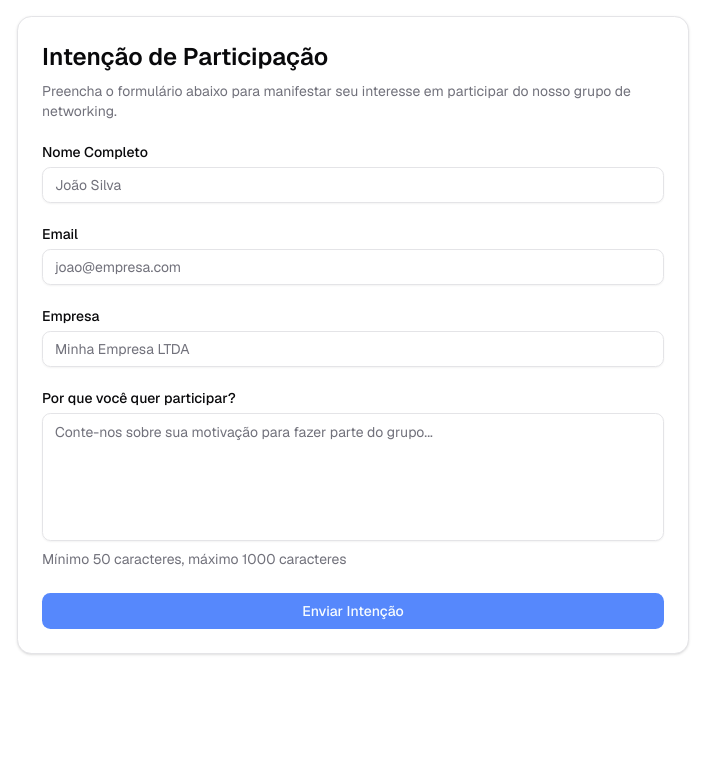
Test: ApplyPage › deve mostrar erro de validação para nome curto
Type "Jo" into the field labelled "Nome Completo".
click(353, 185); type("Jo")  # box [42, 167, 664, 203]
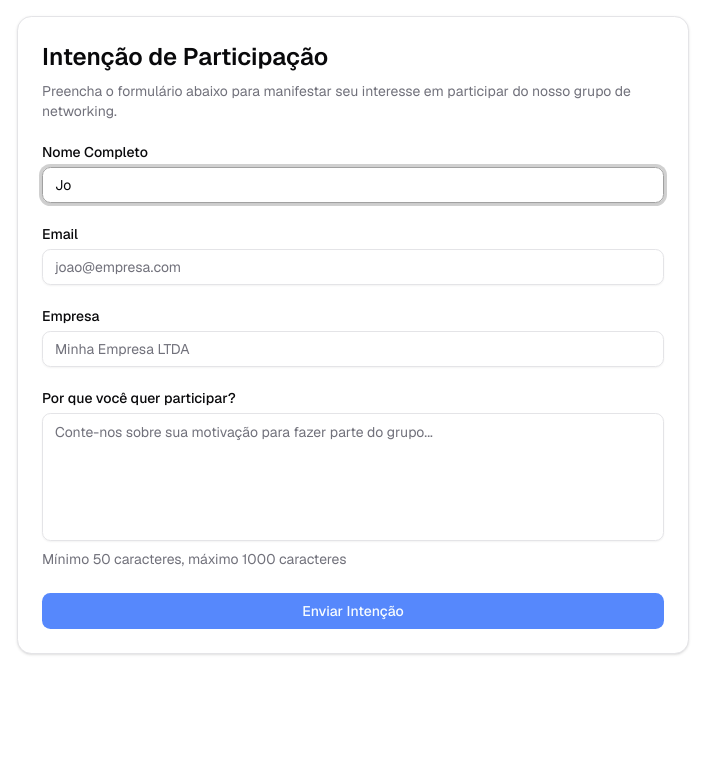
Click the button "Enviar Intenção".
click(353, 611)  # box [42, 593, 664, 629]
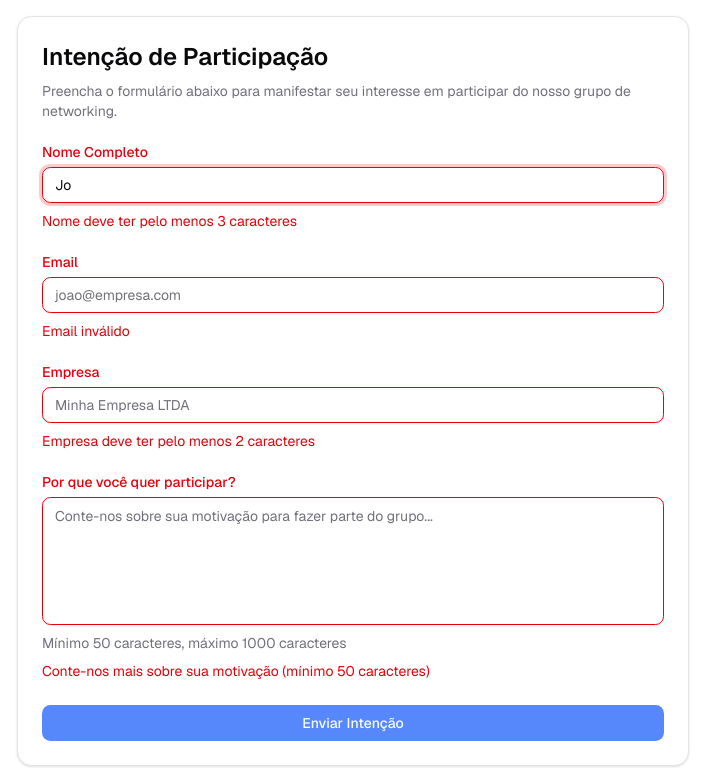
expect the text "Nome deve ter pelo menos 3 caracteres" is shown: met, box [42, 212, 297, 230]
